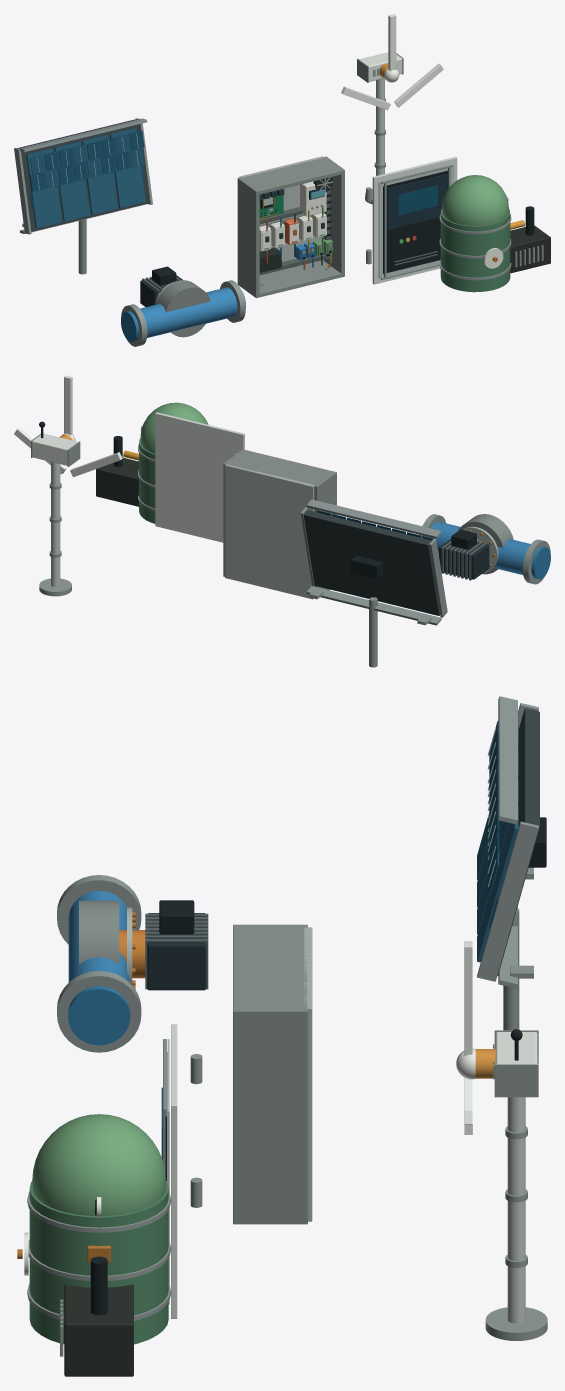
The model's file is welos-system-v2.glb.
The picture shows the model from 3 angles, top to bottom: view 1: azimuth 30°, elevation 25°; view 2: azimuth 150°, elevation 25°; view 3: azimuth 270°, elevation 25°; orthographic projection. The views are drawn at different scales.
Visible parts, largest first — view 1: B01 Anaerobic digester, C01 Door gasket, B01 Gas holder dome, C01 Left enclosure rail, F01 Water conduit, C01 Top enclosure rail, S01 PV module frame, C01 Smoked inspection window, C01 Bottom enclosure rail, C01 Exploded access door, C01 Right enclosure rail, B01 Engine generator (+22 smaller); view 2: C01 Cabinet backplate, S01 PV module frame, C01 Exploded access door, C01 Top enclosure rail, B01 Engine generator, S01 Aluminum end rail 569, F01 Water conduit, B01 Gas holder dome, W01 Tower, B01 Anaerobic digester, S01 Aluminum end rail 231, F01 Generator housing (+13 smaller); view 3: C01 Right enclosure rail, B01 Anaerobic digester, B01 Gas holder dome, C01 Top enclosure rail, B01 Engine generator, W01 Tower, S01 Aluminum edge rail -378, F01 Generator housing, F01 Inner flange -438, F01 Pipe flange -438, S01 PV module frame, S01 Aluminum end rail 569 (+16 smaller).
Part boxes in pixels (x1=…): B01 Anaerobic digester: x1=440, y1=208, x2=510, y2=292; C01 Door gasket: x1=383, y1=170, x2=448, y2=273; B01 Gas holder dome: x1=442, y1=175, x2=508, y2=225; C01 Left enclosure rail: x1=237, y1=177, x2=259, y2=297; F01 Water conduit: x1=140, y1=287, x2=237, y2=337; C01 Top enclosure rail: x1=242, y1=157, x2=344, y2=194; S01 PV module frame: x1=17, y1=119, x2=148, y2=231; C01 Smoked inspection window: x1=387, y1=174, x2=447, y2=229; C01 Bottom enclosure rail: x1=238, y1=261, x2=344, y2=297; C01 Exploded access door: x1=372, y1=156, x2=457, y2=284; C01 Right enclosure rail: x1=323, y1=156, x2=344, y2=276; B01 Engine generator: x1=510, y1=225, x2=550, y2=273; C01 Cabinet backplate: x1=225, y1=464, x2=314, y2=599; S01 PV module frame: x1=303, y1=510, x2=439, y2=615; C01 Exploded access door: x1=155, y1=412, x2=244, y2=542; C01 Top enclosure rail: x1=226, y1=449, x2=336, y2=489; B01 Engine generator: x1=96, y1=457, x2=138, y2=506; S01 Aluminum end rail 569: x1=306, y1=499, x2=441, y2=538; F01 Water conduit: x1=428, y1=521, x2=530, y2=574; B01 Gas holder dome: x1=140, y1=402, x2=208, y2=453; W01 Tower: x1=51, y1=462, x2=60, y2=586; B01 Anaerobic digester: x1=139, y1=438, x2=155, y2=523; S01 Aluminum end rail 231: x1=306, y1=586, x2=441, y2=625; F01 Generator housing: x1=439, y1=539, x2=489, y2=579; C01 Right enclosure rail: x1=233, y1=1008, x2=307, y2=1223; B01 Anaerobic digester: x1=29, y1=1181, x2=168, y2=1344; B01 Gas holder dome: x1=32, y1=1114, x2=165, y2=1215; C01 Top enclosure rail: x1=233, y1=924, x2=307, y2=1018; B01 Engine generator: x1=64, y1=1284, x2=133, y2=1376; W01 Tower: x1=507, y1=1097, x2=525, y2=1323; S01 Aluminum edge rail -378: x1=477, y1=821, x2=538, y2=981; F01 Generator housing: x1=147, y1=913, x2=206, y2=990; F01 Inner flange -438: x1=68, y1=986, x2=130, y2=1045; F01 Pipe flange -438: x1=57, y1=971, x2=141, y2=1052; S01 PV module frame: x1=497, y1=708, x2=539, y2=975; S01 Aluminum end rail 569: x1=498, y1=696, x2=517, y2=824.
Size of the model in its own units: 1807 by 793 by 991.
